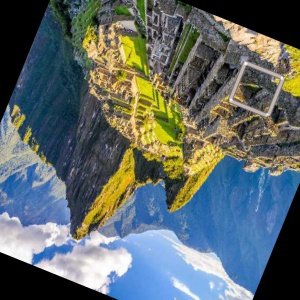square: (227, 58, 285, 119)
